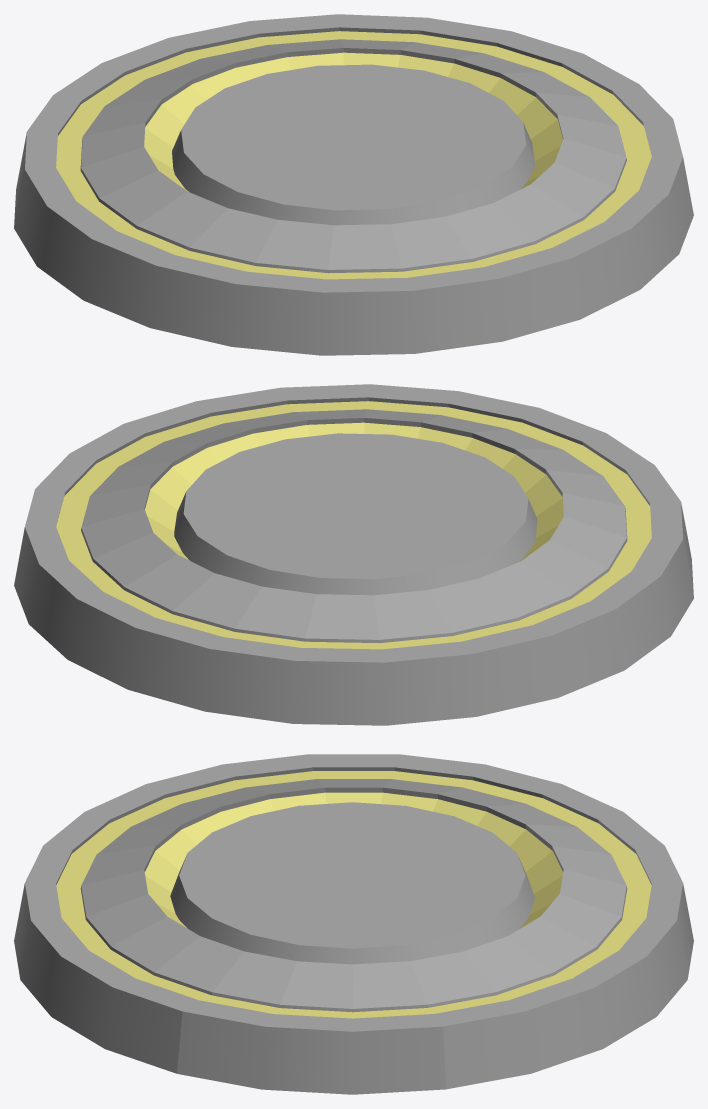
The model's file is Platform - Circle.fbx.
The picture shows the model from 3 angles, top to bottom: view 1: azimuth 30°, elevation 25°; view 2: azimuth 150°, elevation 25°; view 3: azimuth 270°, elevation 25°; orthographic projection.
Visible parts, largest first — view 1: pCylinder121; view 2: pCylinder121; view 3: pCylinder121.
Part boxes in pixels (left/top/right/bottom): pCylinder121: left=14, top=14, right=693, bottom=355; pCylinder121: left=14, top=384, right=693, bottom=725; pCylinder121: left=14, top=754, right=693, bottom=1094.
Bounding box in the file's own units: 7.06 × 0.8653 × 7.08.
